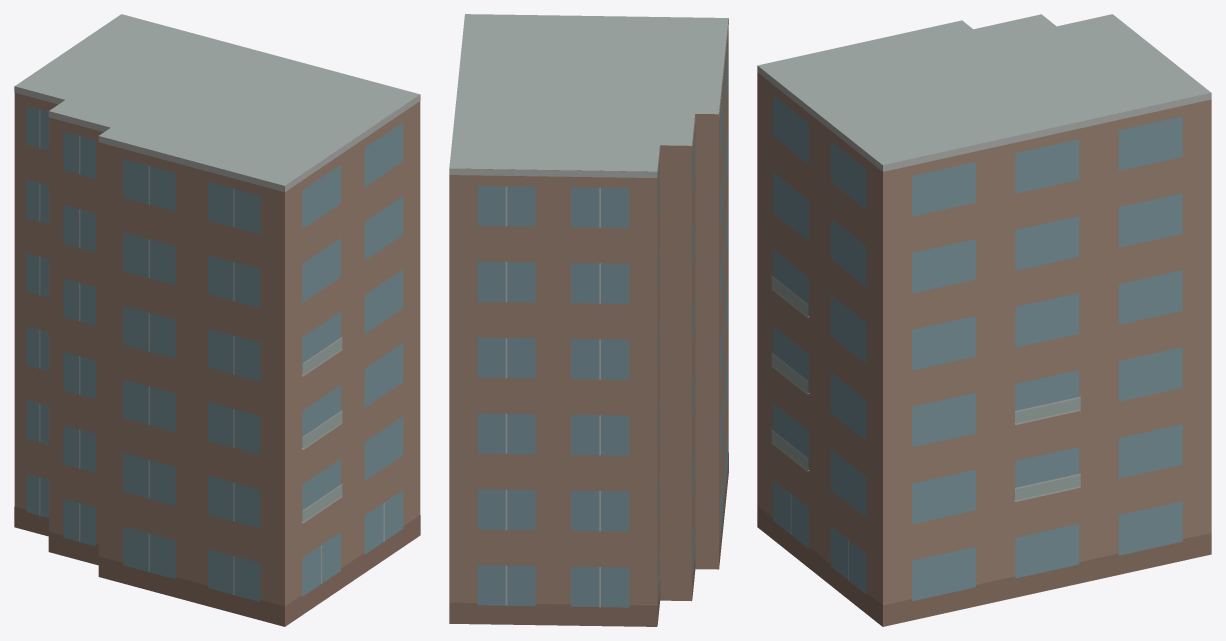
The model's file is survey-upis-32678606.glb.
3 renders of one model, left to right at view 1: azimuth 30°, elevation 25°; view 2: azimuth 150°, elevation 25°; view 3: azimuth 270°, elevation 25°, orthographic. The views are drawn at different scales.
Parts seen in each view (by area): view 1: survey-upis-32678606.tmp; view 2: survey-upis-32678606.tmp; view 3: survey-upis-32678606.tmp.
Part boxes in pixels (x1,y1,x2,y2): survey-upis-32678606.tmp: (14, 14, 420, 626); survey-upis-32678606.tmp: (449, 14, 728, 626); survey-upis-32678606.tmp: (757, 14, 1211, 626).
Size of the model in its own units: 11.96 by 17 by 15.17.
